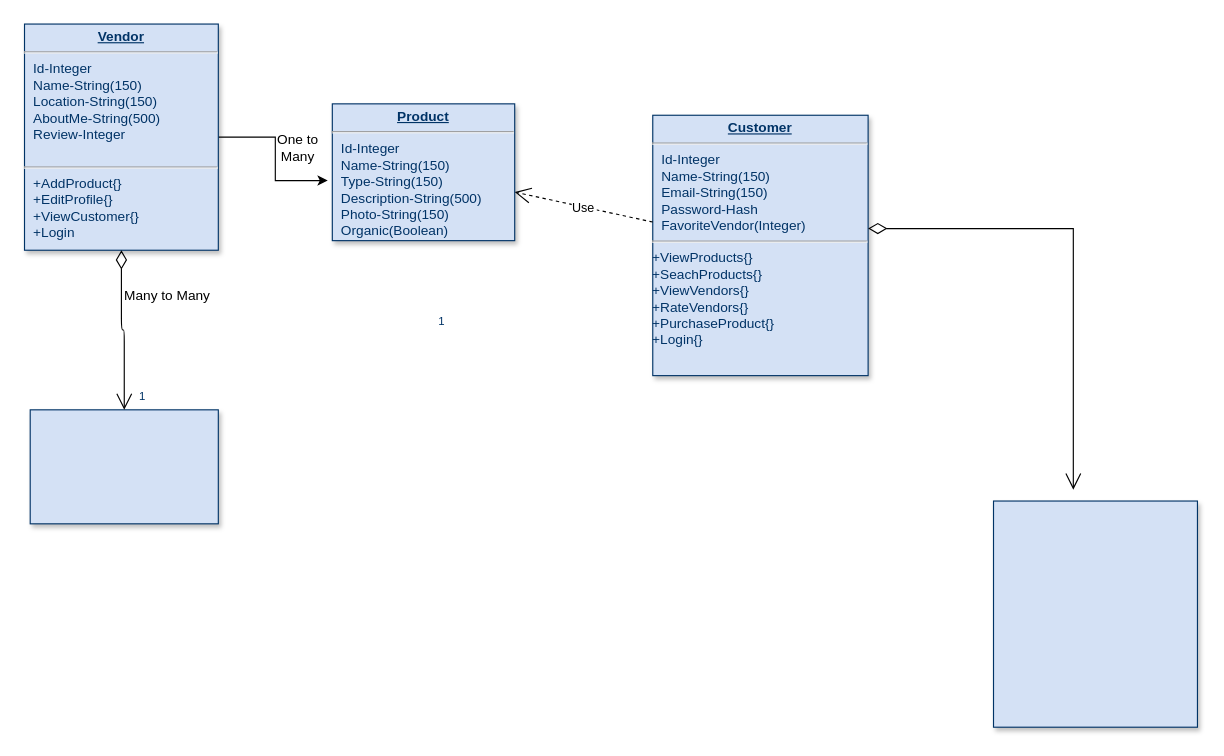
The diagram is 1224 pixels wide and 756 high, and some of its shapes have lost their labels. Here are the shapes that lost their labels. From the top down, the centre of each, then its label:
point (125, 468): Tags Id-Integer Name-String(150) Description-String(150)
point (1096, 615): Guest +ViewProducts{} +SeachProducts{} +ViewVendors{} +CreateAccount{}
